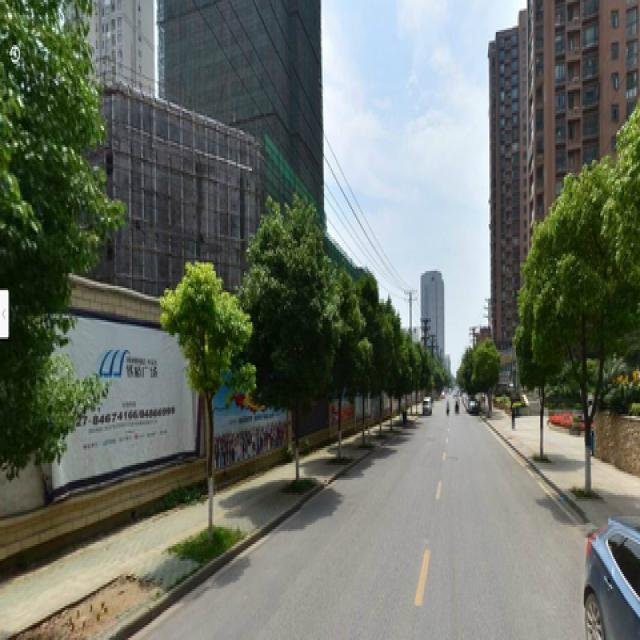cinn: (529, 192, 619, 512), (250, 224, 326, 484), (184, 277, 236, 512)
